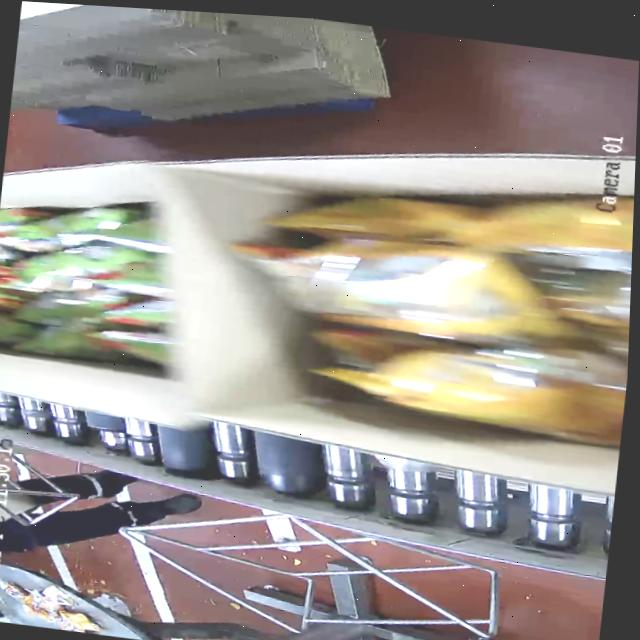FRENCH_CHEESE: (253, 164, 635, 443)
